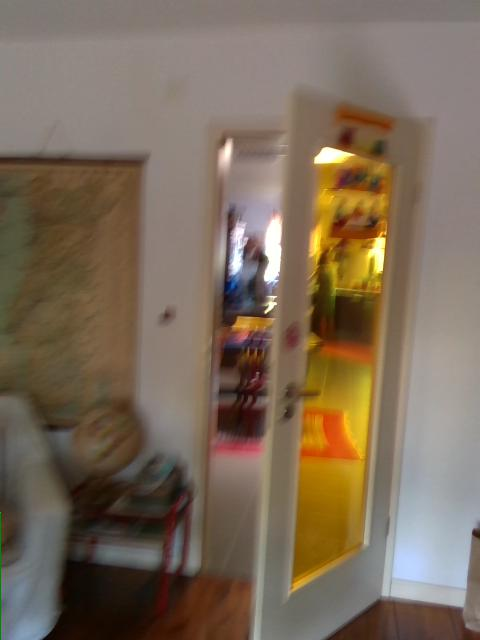semi_door: (193, 77, 430, 639)
